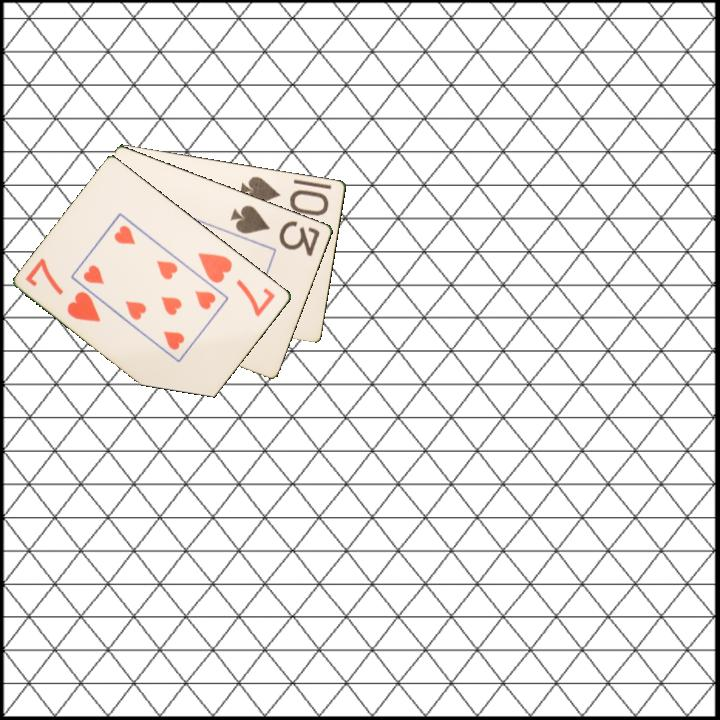10s: (237, 172, 332, 219)
3s: (227, 201, 323, 259)
7h: (194, 249, 279, 320), (22, 255, 104, 325)
